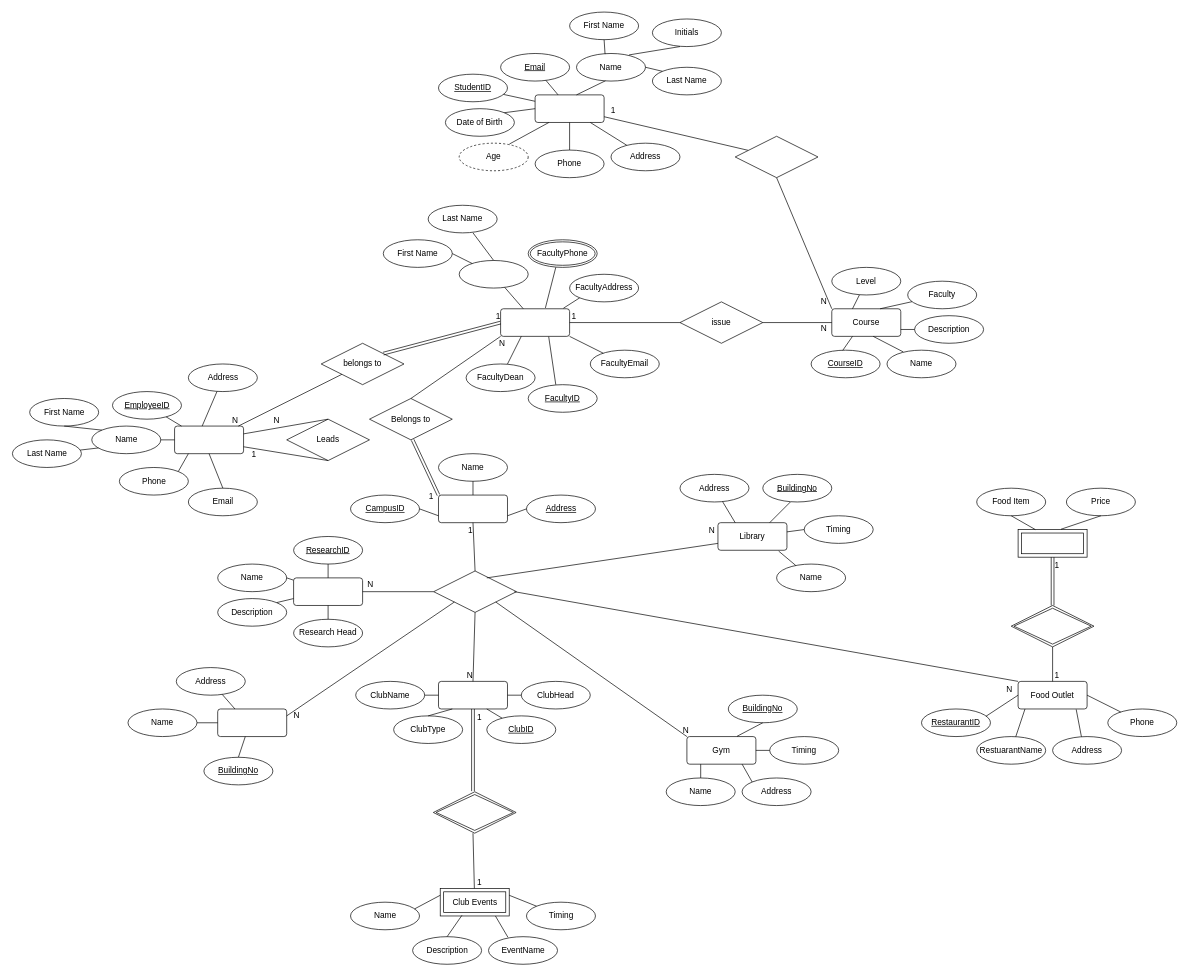
Some shapes in this 1189 by 976 pixel diagram are drawn without their labels. The shapes that lost their labels are listed below. From the top down, each one's centre as x and y in pixels, then its label:
At pixel 569 108: "Student".
At pixel 776 157: "Take up".
At pixel 493 274: "FacultyName".
At pixel 535 322: "Faculty/ Department".
At pixel 209 439: "Employee/Staff".
At pixel 472 508: "Campus".
At pixel 1052 543: "Menu".
At pixel 328 591: "Research & Innovation".
At pixel 474 591: "facilitates".
At pixel 1052 626: "has".
At pixel 472 695: "Club".
At pixel 252 722: "Accomodation".
At pixel 474 812: "Organise".
